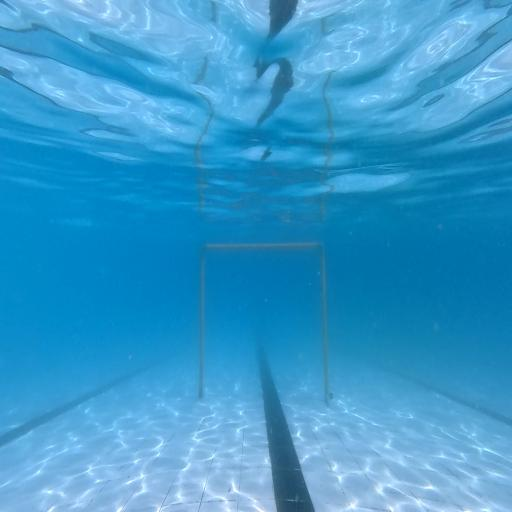gate: (199, 244, 333, 402)
